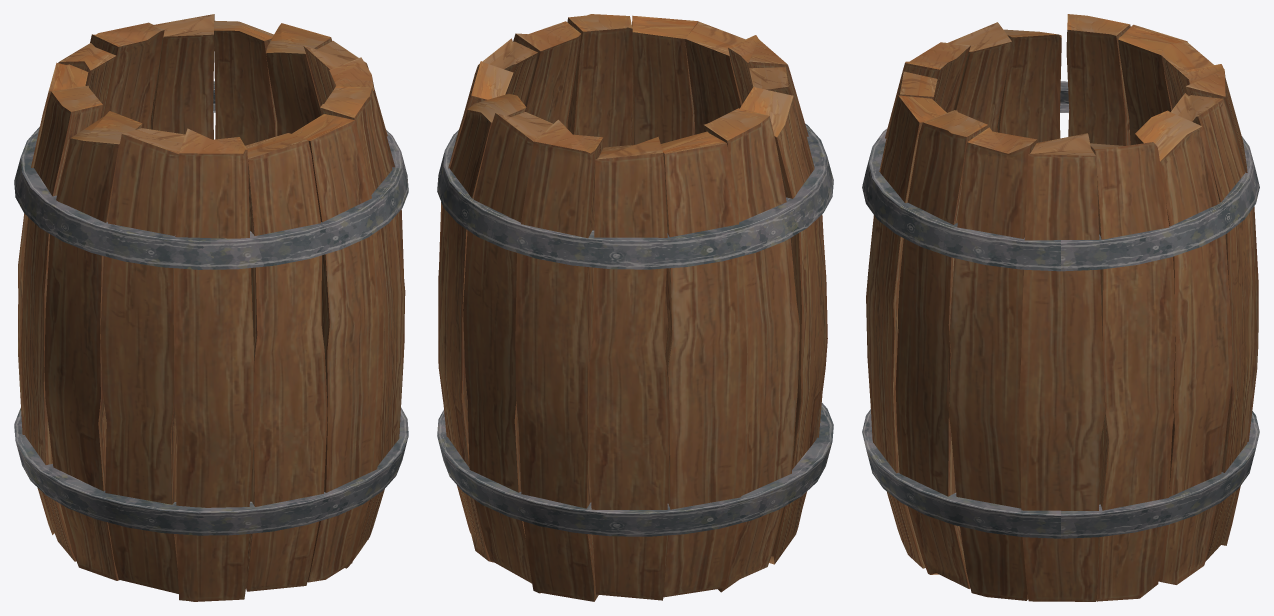
The model's file is SM_Farm_Barrel_02.fbx.
3 views of the same model, side by side, from view 1: azimuth 30°, elevation 25°; view 2: azimuth 150°, elevation 25°; view 3: azimuth 270°, elevation 25° (orthographic).
Visible parts, largest first — view 1: SM_Farm_Barrel_02_LOD0; view 2: SM_Farm_Barrel_02_LOD0; view 3: SM_Farm_Barrel_02_LOD0.
Part boxes in pixels (bbox=[...]): SM_Farm_Barrel_02_LOD0: bbox=[14, 14, 408, 601]; SM_Farm_Barrel_02_LOD0: bbox=[437, 14, 833, 601]; SM_Farm_Barrel_02_LOD0: bbox=[862, 14, 1259, 601].
Size of what is drawn, in the model's own units: 91.28 by 117 by 91.28.
